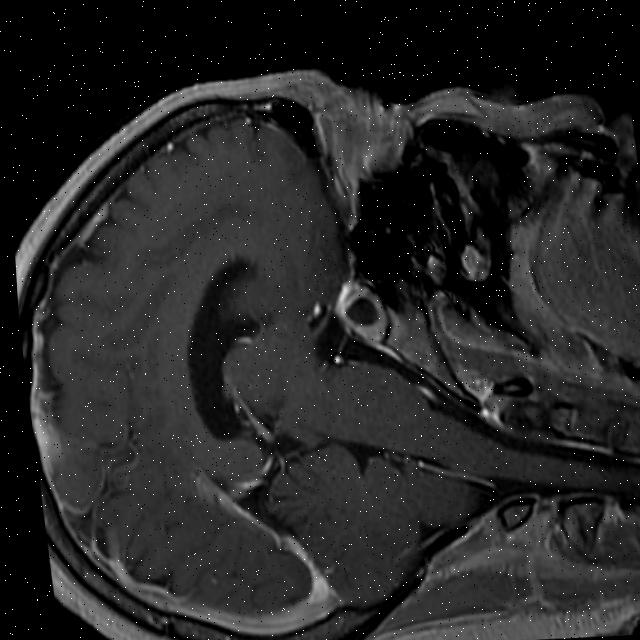Pituitary: (330, 279, 390, 345)
